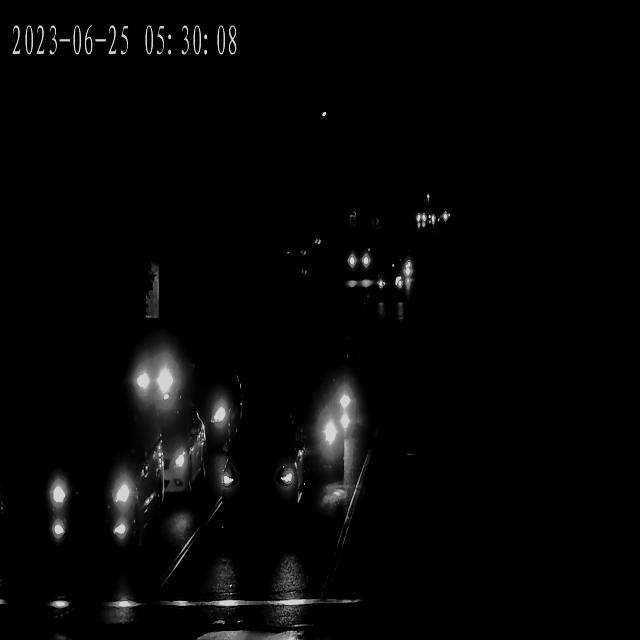Car: (47, 410, 165, 564), (219, 423, 301, 544), (132, 409, 216, 501), (285, 381, 346, 483), (190, 366, 244, 455), (132, 340, 188, 406), (313, 368, 359, 445), (380, 262, 406, 310), (348, 236, 374, 276), (412, 205, 426, 230), (440, 207, 454, 224)
